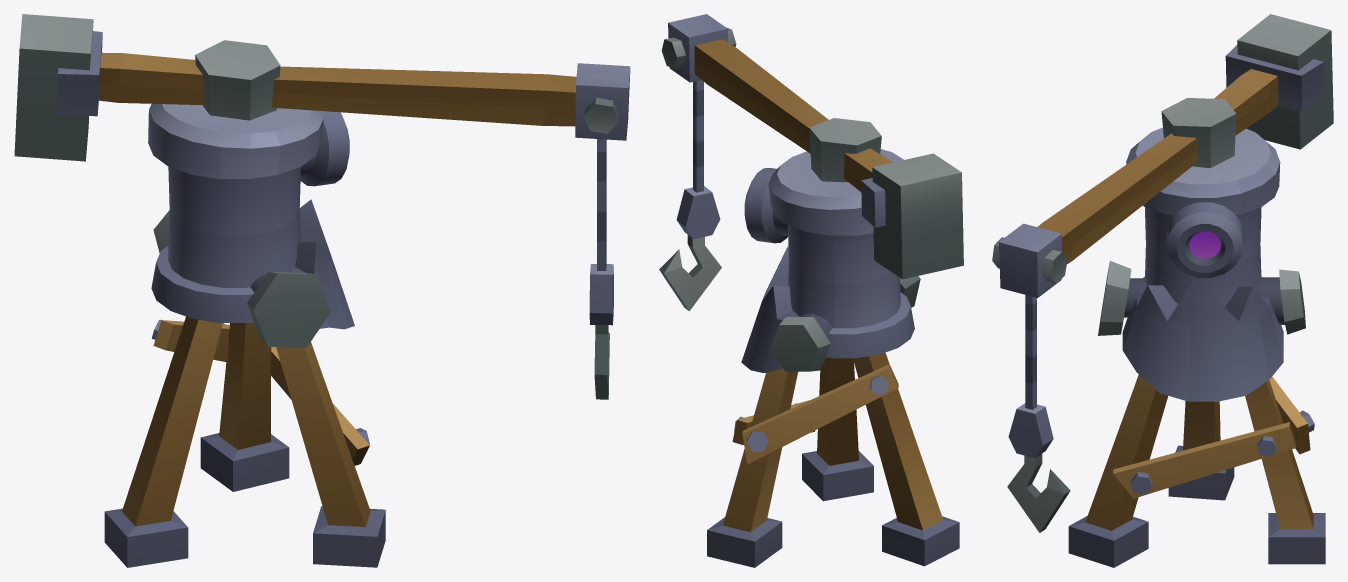
Rendered from factory-crane.obj.
3 renders of one model, left to right at view 1: azimuth 30°, elevation 25°; view 2: azimuth 150°, elevation 25°; view 3: azimuth 270°, elevation 25°, orthographic. The views are drawn at different scales.
Visible parts, largest first — view 1: factory-crane; view 2: factory-crane; view 3: factory-crane.
Boxes of the visible parts, x1,y1,x2,y2 form: factory-crane: (14,14,630,567); factory-crane: (659,14,963,567); factory-crane: (992,14,1333,567).
Bounding box in the file's own units: 12.87 × 12.61 × 8.98.
1 material, 1 textured.
